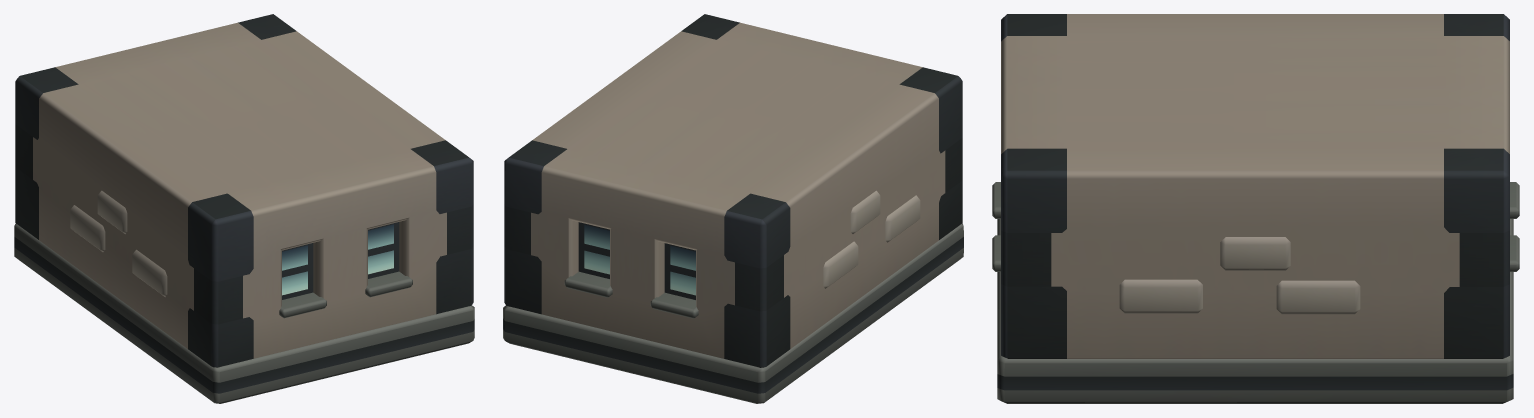
Rendered from appartment_type1_x3_element_cream.fbx.
3 renders of one model, left to right at view 1: azimuth 30°, elevation 25°; view 2: azimuth 150°, elevation 25°; view 3: azimuth 270°, elevation 25°, orthographic. The views are drawn at different scales.
Visible parts, largest first — view 1: appartment_type1_x3_element_cream; view 2: appartment_type1_x3_element_cream; view 3: appartment_type1_x3_element_cream.
Boxes of the visible parts, x1,y1,x2,y2 form: appartment_type1_x3_element_cream: (14, 14, 474, 403); appartment_type1_x3_element_cream: (503, 14, 963, 403); appartment_type1_x3_element_cream: (992, 14, 1519, 403).
Size of the model in its own units: 628 by 409 by 839.
